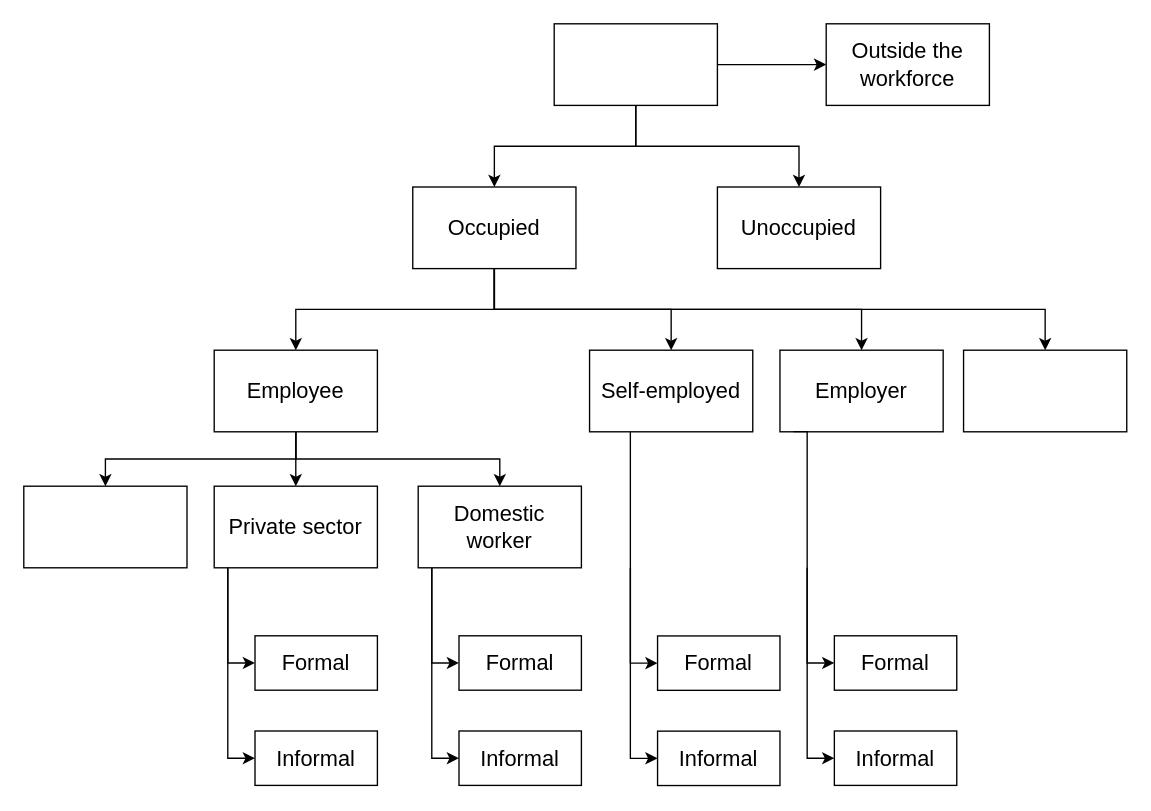
Image size: 1151x811. Some labels were removed from this diagram. The centre of each missing label's shape, as x and y in pixels:
"Auxiliary family worker" belongs at (x=1044, y=390).
"Public sector" belongs at (x=104, y=526).
"Workforce" belongs at (x=635, y=63).
